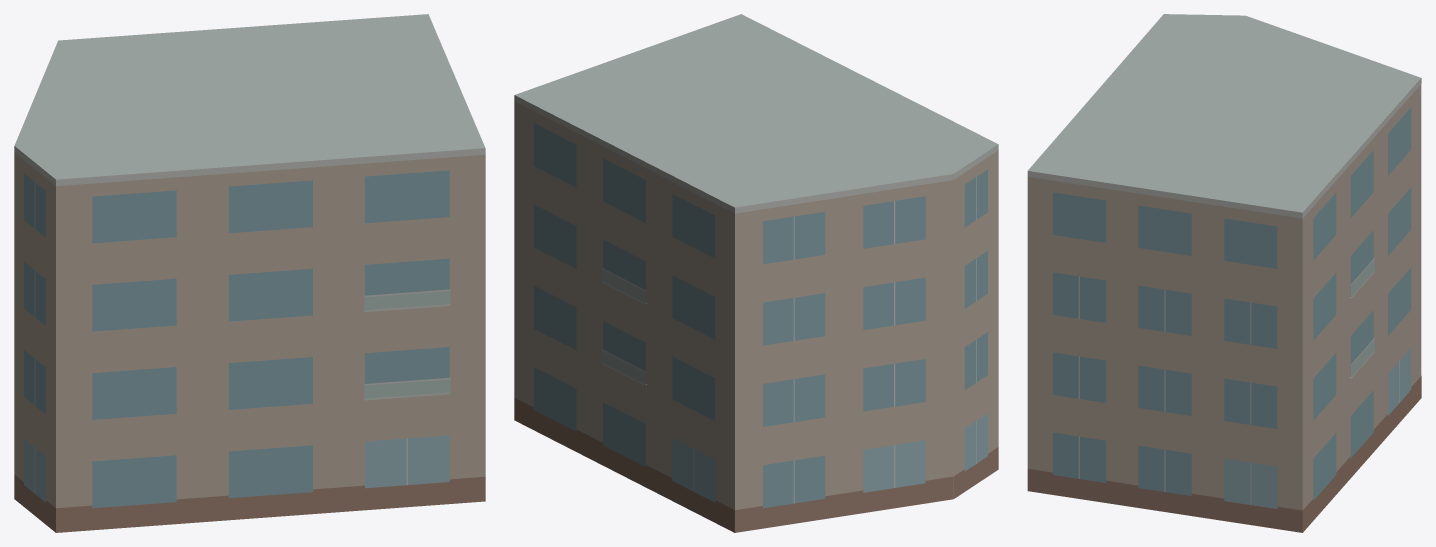
File: survey-upis-32710344.glb
3 renders of one model, left to right at view 1: azimuth 30°, elevation 25°; view 2: azimuth 150°, elevation 25°; view 3: azimuth 270°, elevation 25°, orthographic. The views are drawn at different scales.
Visible parts, largest first — view 1: survey-upis-32710344.tmp; view 2: survey-upis-32710344.tmp; view 3: survey-upis-32710344.tmp.
Part boxes in pixels (x1,y1,x2,y2): survey-upis-32710344.tmp: (14, 14, 485, 532); survey-upis-32710344.tmp: (514, 14, 998, 532); survey-upis-32710344.tmp: (1027, 14, 1421, 532).
Bounding box in the file's own units: 17.57 × 13.2 × 14.72.
